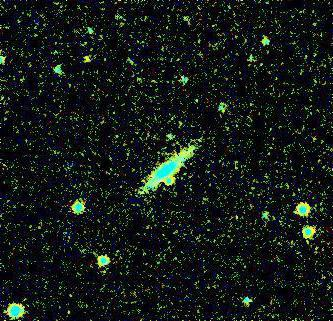star: (75, 42, 105, 72)
